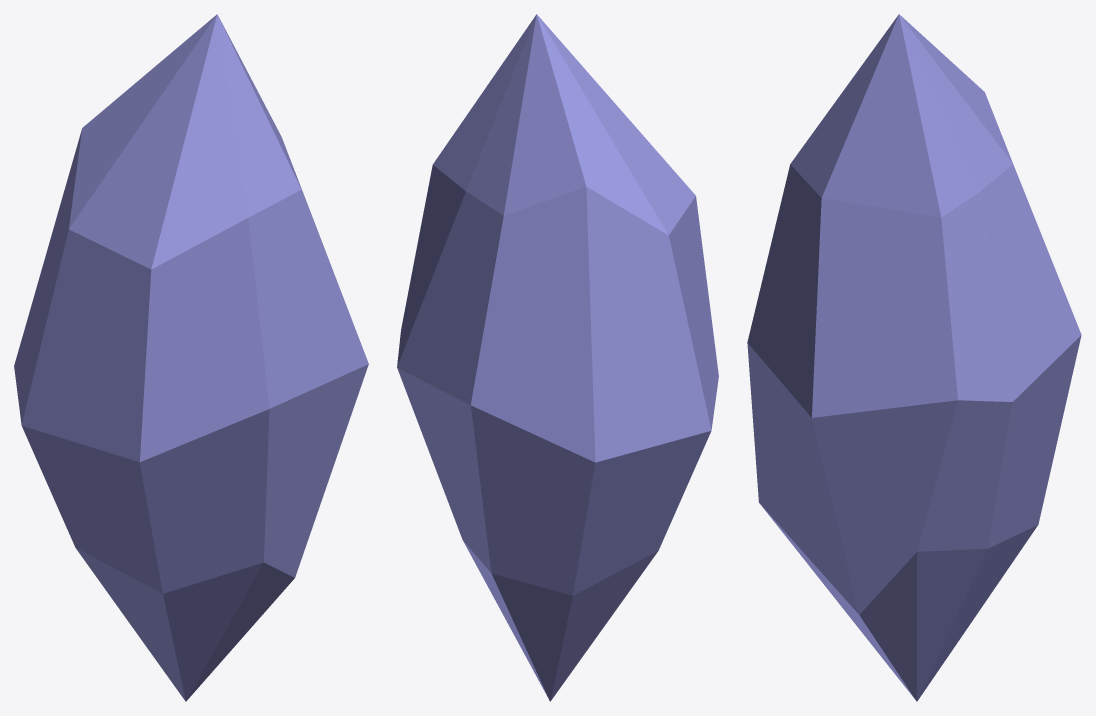
File: cristal.FBX
3 views of the same model, side by side, from view 1: azimuth 30°, elevation 25°; view 2: azimuth 150°, elevation 25°; view 3: azimuth 270°, elevation 25° (orthographic). The views are drawn at different scales.
Parts seen in each view (by area): view 1: cristal; view 2: cristal; view 3: cristal.
Part boxes in pixels (bbox=[...]): cristal: bbox=[14, 14, 368, 701]; cristal: bbox=[397, 14, 718, 701]; cristal: bbox=[747, 14, 1081, 701].
Size of the model in its own units: 18.02 by 17.36 by 40.06.
